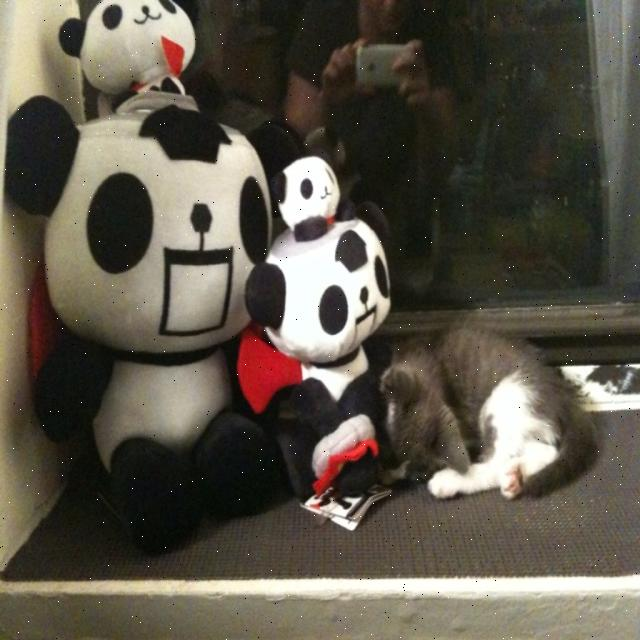panda: (7, 93, 298, 558), (240, 195, 398, 498), (58, 0, 214, 116), (272, 152, 342, 235)
